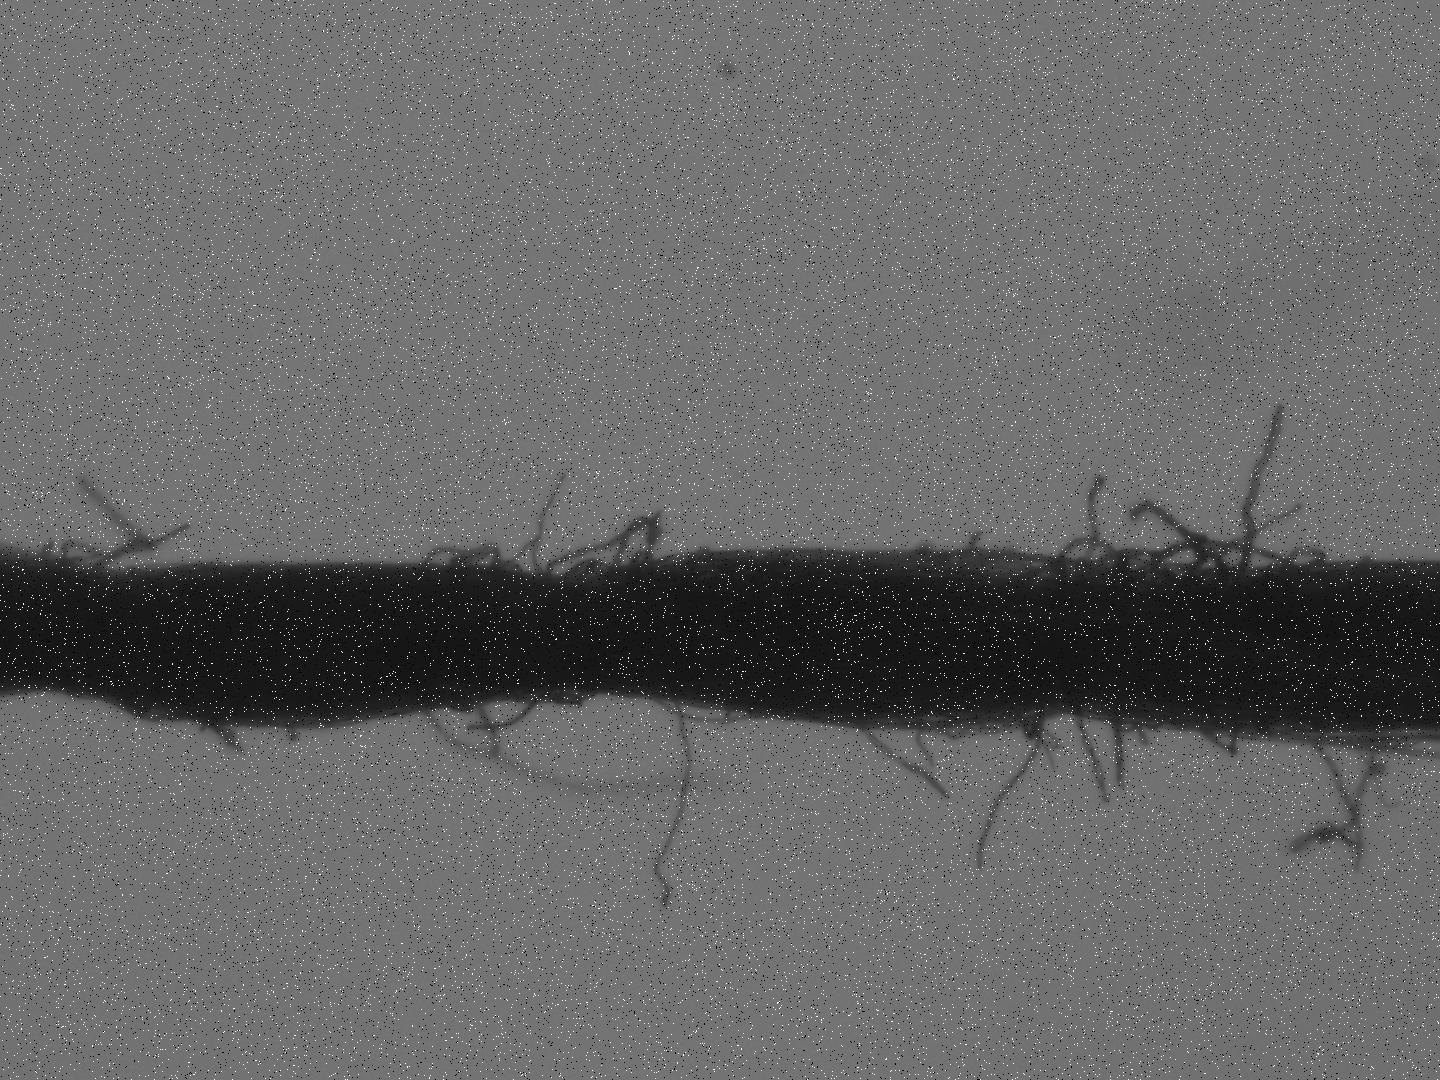loop_fiber: (544, 516, 659, 575), (1146, 540, 1289, 574), (651, 693, 761, 726), (416, 542, 520, 576), (1054, 541, 1132, 585), (1086, 549, 1184, 579), (506, 689, 596, 707), (1010, 714, 1048, 742), (1198, 731, 1238, 756)
protruding_fiber: (974, 724, 1045, 868), (651, 698, 692, 913), (1237, 403, 1287, 577), (859, 720, 950, 801), (1070, 709, 1111, 811), (469, 699, 531, 734), (1087, 482, 1108, 575), (1108, 717, 1126, 786)
